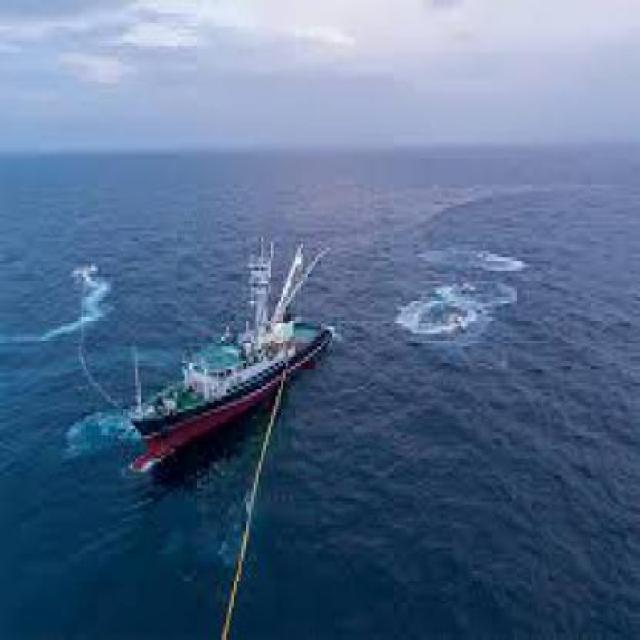fish-b: (100, 218, 349, 479)
